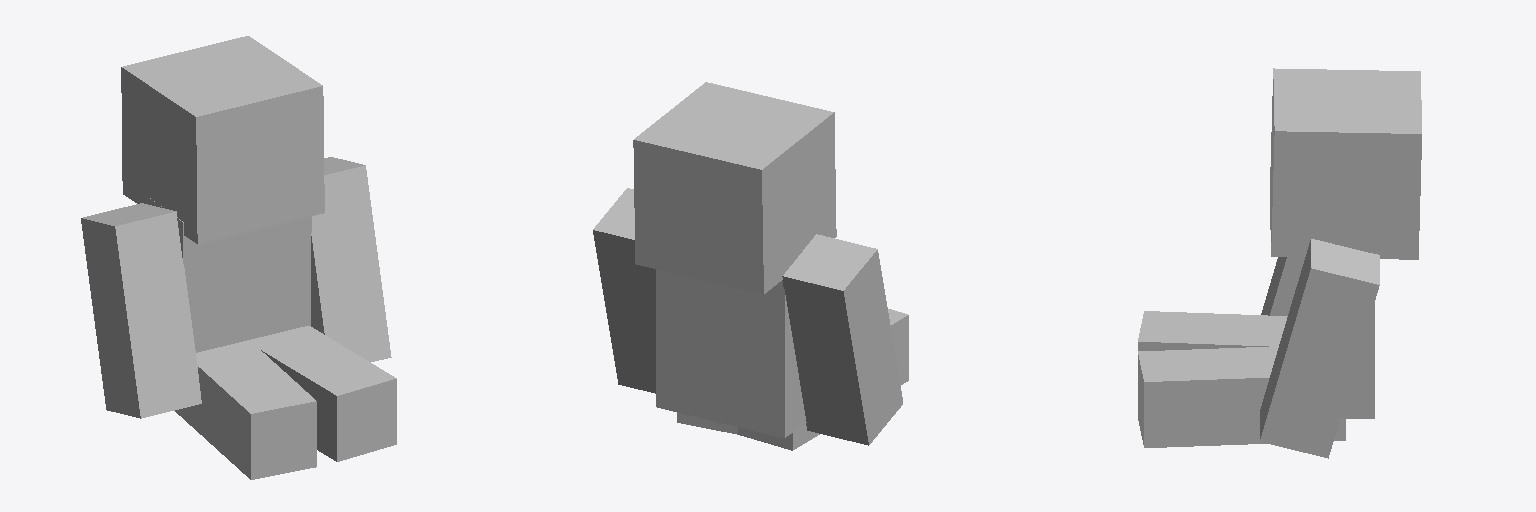
File: npcyomama.obj
3 renders of one model, left to right at view 1: azimuth 30°, elevation 25°; view 2: azimuth 150°, elevation 25°; view 3: azimuth 270°, elevation 25°, orthographic.
Parts seen in each view (by area): view 1: Steve.005, Steve.003, Steve, Steve.002, Steve.004, Steve.001; view 2: Steve.005, Steve, Steve.003, Steve.004, Steve.002, Steve.001; view 3: Steve.005, Steve.004, Steve.001, Steve.002, Steve, Steve.003.
Part boxes in pixels (x1,y1,x2,y2): Steve.005: (121,36,324,243); Steve.003: (81,203,201,418); Steve: (145,195,311,352); Steve.002: (175,340,316,479); Steve.004: (311,157,391,361); Steve.001: (250,326,396,461); Steve.005: (633,82,836,294); Steve: (656,235,823,438); Steve.003: (782,234,902,445); Steve.004: (593,188,655,393); Steve.002: (738,309,908,450); Steve.001: (677,413,737,434); Steve.005: (1270,68,1421,259); Steve.004: (1260,239,1379,458); Steve.001: (1138,346,1345,447); Steve.002: (1138,311,1287,350); Steve: (1297,244,1374,418); Steve.003: (1261,257,1296,315).
Size of the model in its own units: 1.17 by 1.4 by 1.15.